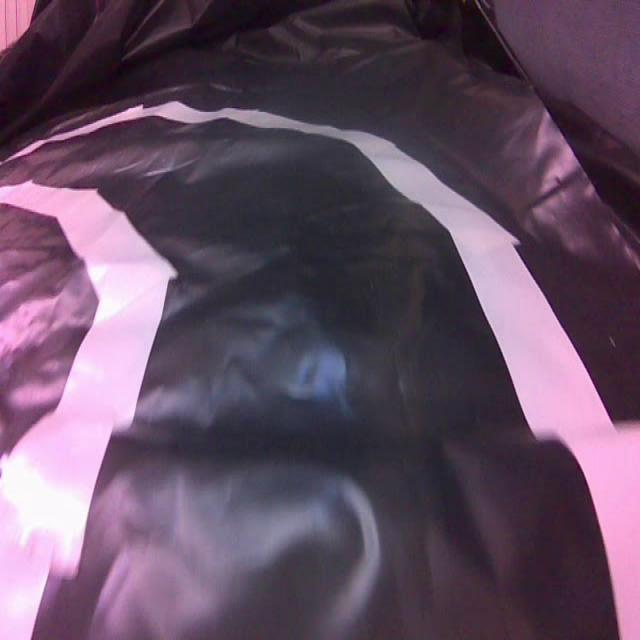LineaCarril: (15, 102, 640, 638), (0, 182, 175, 638), (0, 182, 121, 276)
